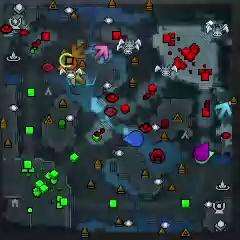p1: (124, 130, 146, 147)
p2: (195, 149, 215, 165)
p3: (193, 143, 209, 162)
p5: (57, 56, 76, 71)
x1: (93, 45, 109, 61)
x2: (70, 68, 86, 86)
x3: (215, 101, 232, 120)
x5: (71, 41, 88, 59)
